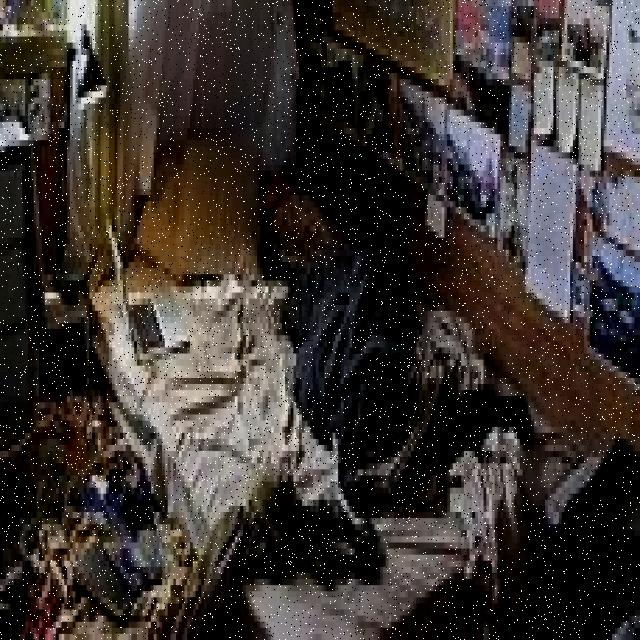bed: (90, 133, 484, 640)
